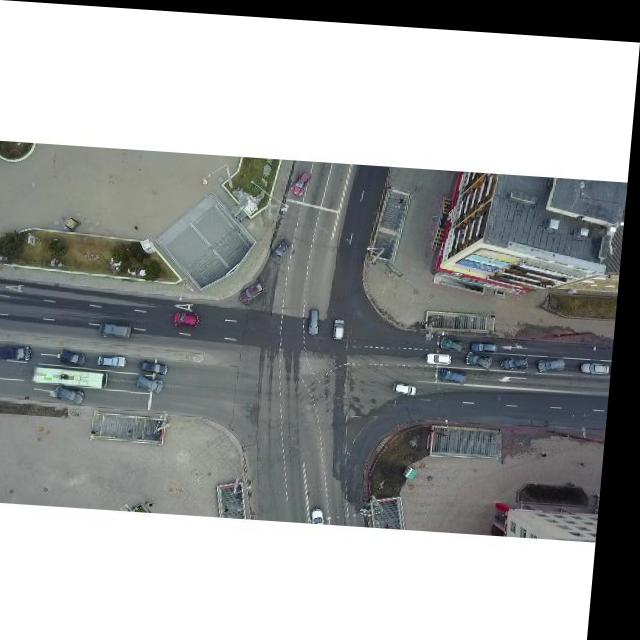vehicle: (244, 274, 271, 303), (177, 307, 206, 328), (61, 384, 93, 403), (4, 344, 39, 361), (275, 233, 295, 261), (141, 373, 171, 391), (294, 165, 313, 192), (104, 322, 138, 337), (506, 347, 536, 364), (471, 345, 500, 362), (542, 348, 572, 364), (65, 348, 93, 365), (103, 352, 134, 367), (145, 357, 175, 372), (446, 362, 474, 377), (445, 331, 471, 346), (312, 304, 326, 330), (399, 376, 425, 390), (476, 334, 504, 347), (432, 346, 458, 359), (338, 313, 351, 335)
